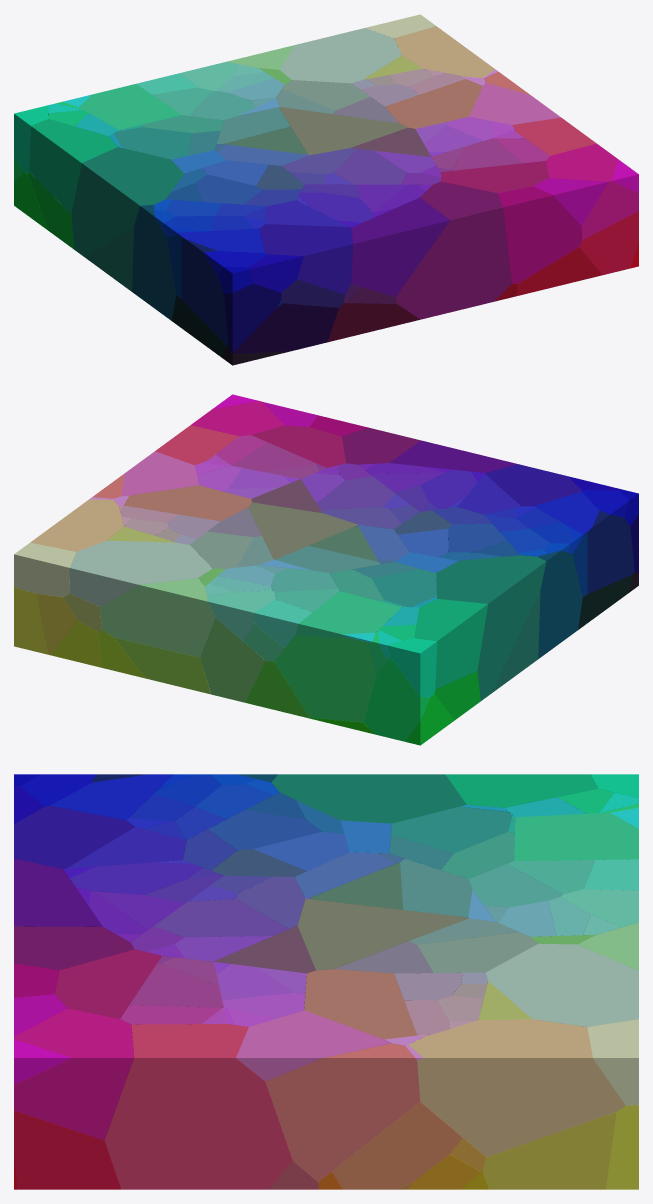
Rendered from Cube_Creak.fbx.
3 views of the same model, one above another, from view 1: azimuth 30°, elevation 25°; view 2: azimuth 150°, elevation 25°; view 3: azimuth 270°, elevation 25° (orthographic). The views are drawn at different scales.
Visible parts, largest first — view 1: Object01; view 2: Object01; view 3: Object01.
Boxes of the visible parts, x1,y1,x2,y2 form: Object01: (14,14,638,365); Object01: (14,394,638,745); Object01: (14,774,638,1189).
Size of the model in its own units: 463 by 100 by 431.
